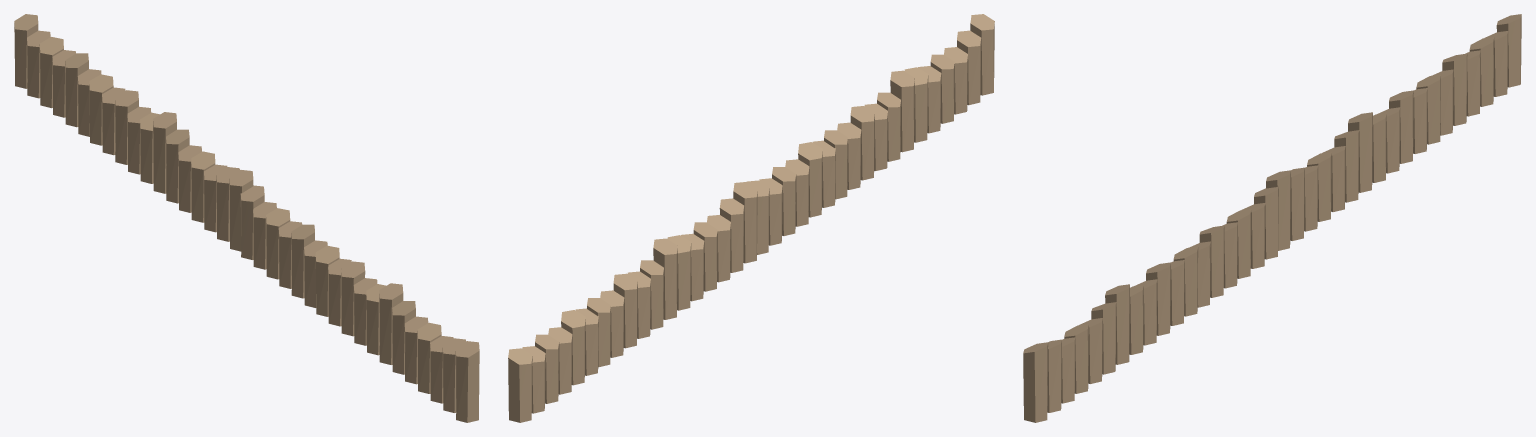
File: fence_1.FBX
The picture shows the model from 3 angles, left to right: view 1: azimuth 30°, elevation 25°; view 2: azimuth 150°, elevation 25°; view 3: azimuth 330°, elevation 25°; orthographic projection. The views are drawn at different scales.
Visible parts, largest first — view 1: fence_1; view 2: fence_1; view 3: fence_1.
Boxes of the visible parts, x1=… form: fence_1: x1=14, y1=14, x2=479, y2=422; fence_1: x1=508, y1=14, x2=994, y2=422; fence_1: x1=1023, y1=14, x2=1521, y2=422.
Bounding box in the file's own units: 70.28 × 143 × 1664.
